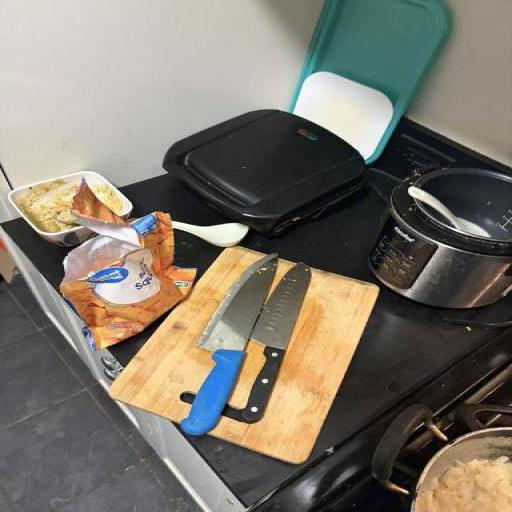knife: (177, 240, 281, 437), (238, 262, 326, 426)
